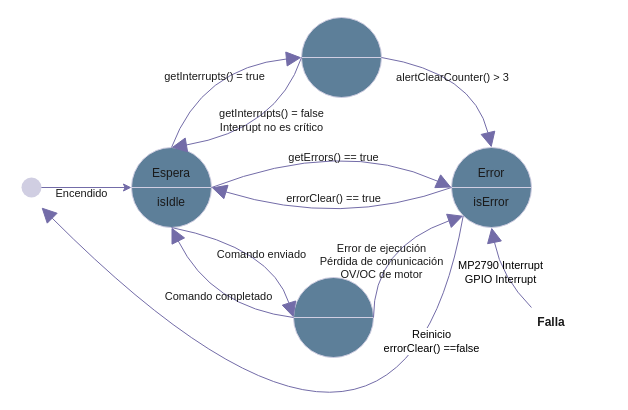
The diagram is 628 pixels wide and 410 high, and some of its shapes have lost their labels. The centre of each missing label's shape, as x and y in pixels:
Active isActive: (x=333, y=317)
Alerta isAlert: (x=341, y=57)
